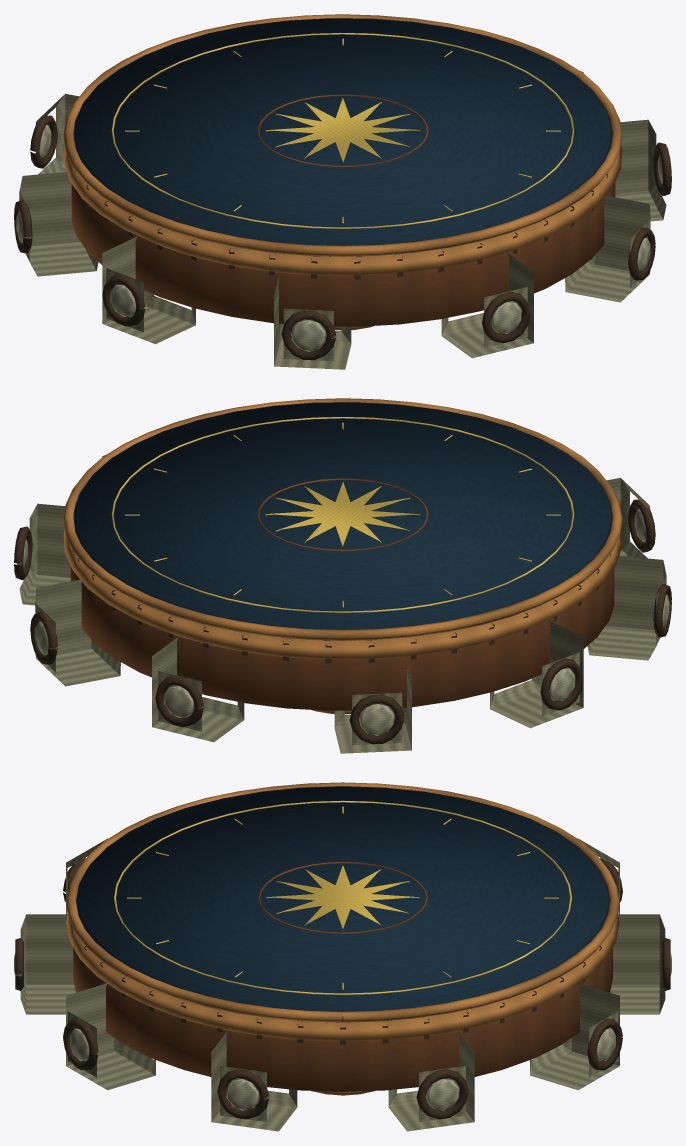
File: spinner.glb
3 views of the same model, one above another, from view 1: azimuth 30°, elevation 25°; view 2: azimuth 150°, elevation 25°; view 3: azimuth 270°, elevation 25° (orthographic).
Parts seen in each view (by area): view 1: Recessed blue sun dial, Broad gear housing, Outer deck rolled rim, Housing upper shoulder, Inset circular stone boss (×7), Stone gear tooth 07, Stone gear tooth 01, Stone gear tooth 08, Twelve ray gold sun, Stone gear tooth 02, Stone gear tooth 00, Inner deck gold circle (+4 smaller); view 2: Recessed blue sun dial, Broad gear housing, Outer deck rolled rim, Housing upper shoulder, Inset circular stone boss (×7), Stone gear tooth 08, Stone gear tooth 04, Stone gear tooth 07, Twelve ray gold sun, Stone gear tooth 03, Stone gear tooth 05, Inner deck gold circle (+4 smaller); view 3: Recessed blue sun dial, Broad gear housing, Outer deck rolled rim, Housing upper shoulder, Stone gear tooth 00, Stone gear tooth 05, Inset circular stone boss (×4), Stone gear tooth 01, Stone gear tooth 04, Twelve ray gold sun, Stone gear tooth 02, Stone gear tooth 03 (+3 smaller).
Part boxes in pixels (x1=…): Recessed blue sun dial: x1=73, y1=18, x2=612, y2=256; Broad gear housing: x1=71, y1=182, x2=615, y2=326; Outer deck rolled rim: x1=63, y1=14, x2=622, y2=256; Housing upper shoulder: x1=63, y1=144, x2=622, y2=275; Inset circular stone boss (×7): x1=14, y1=115, x2=671, y2=360; Stone gear tooth 07: x1=19, y1=172, x2=98, y2=276; Stone gear tooth 01: x1=565, y1=195, x2=650, y2=302; Stone gear tooth 08: x1=102, y1=236, x2=195, y2=344; Twelve ray gold sun: x1=265, y1=98, x2=420, y2=162; Stone gear tooth 02: x1=615, y1=119, x2=666, y2=221; Stone gear tooth 00: x1=441, y1=253, x2=533, y2=358; Inner deck gold circle: x1=111, y1=33, x2=574, y2=228; Recessed blue sun dial: x1=73, y1=402, x2=612, y2=640; Broad gear housing: x1=70, y1=566, x2=614, y2=710; Outer deck rolled rim: x1=63, y1=398, x2=622, y2=640; Housing upper shoulder: x1=63, y1=528, x2=622, y2=659; Inset circular stone boss (×7): x1=14, y1=499, x2=671, y2=744; Stone gear tooth 08: x1=587, y1=556, x2=666, y2=660; Stone gear tooth 04: x1=35, y1=579, x2=120, y2=686; Stone gear tooth 07: x1=490, y1=620, x2=583, y2=728; Twelve ray gold sun: x1=265, y1=482, x2=420, y2=546; Stone gear tooth 03: x1=19, y1=503, x2=70, y2=605; Stone gear tooth 05: x1=152, y1=637, x2=244, y2=742; Inner deck gold circle: x1=111, y1=417, x2=574, y2=612; Recessed blue sun dial: x1=76, y1=786, x2=609, y2=1022; Broad gear housing: x1=73, y1=947, x2=612, y2=1091; Outer deck rolled rim: x1=66, y1=782, x2=619, y2=1022; Housing upper shoulder: x1=66, y1=914, x2=619, y2=1041; Stone gear tooth 00: x1=20, y1=914, x2=75, y2=1014; Stone gear tooth 05: x1=610, y1=914, x2=665, y2=1014; Inset circular stone boss (×4): x1=63, y1=1018, x2=622, y2=1119; Stone gear tooth 01: x1=66, y1=983, x2=155, y2=1090; Stone gear tooth 04: x1=530, y1=983, x2=619, y2=1090; Twelve ray gold sun: x1=266, y1=865, x2=419, y2=928; Stone gear tooth 02: x1=211, y1=1031, x2=297, y2=1131; Stone gear tooth 03: x1=388, y1=1031, x2=474, y2=1131.
Bounding box in the file's own units: 158 × 51.98 × 163.
7 materials, 7 textured.
